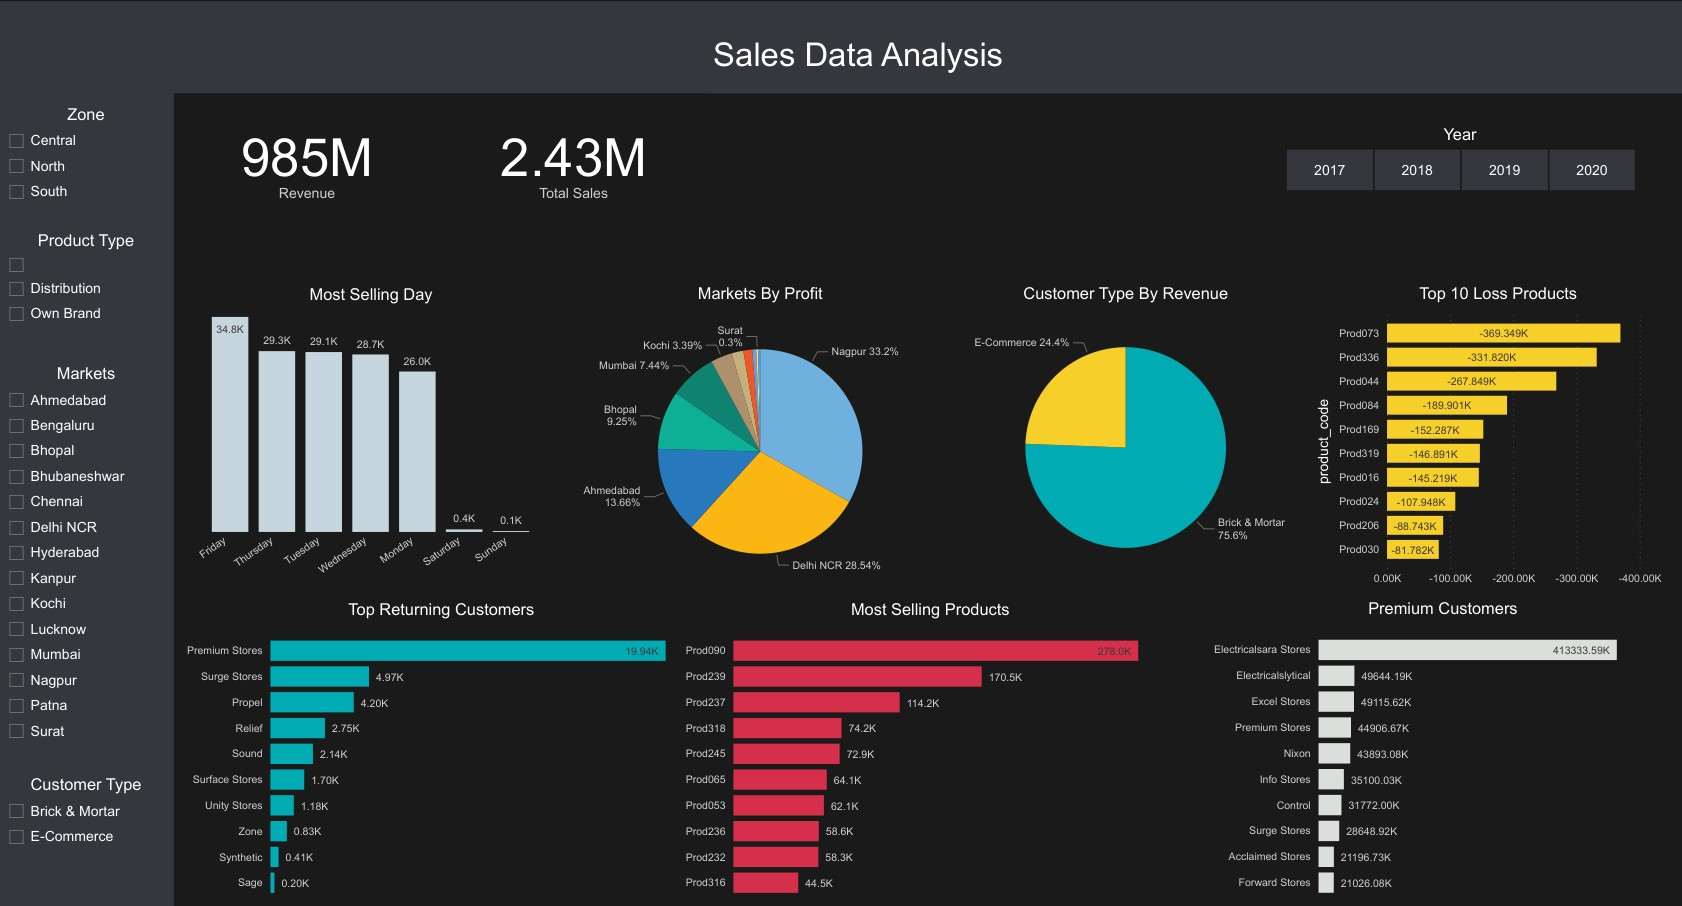

The dashboard page shown, as its layout file describes it:
{"tool":"powerbi","page":{"name":"Page 1","canvas":[1920,1080],"ordinal":0},"visuals":[{"type":"columnChart","title":"Most Selling Day","fields":{"Category":["marged_sales_data.Day of week"],"Y":["CountNonNull(marged_sales_data.Day of week)"]},"box":[199.9,729.5,573.4,350.2],"z":0},{"type":"clusteredBarChart","title":"Premium Customers","fields":{"Category":["marged_sales_data.custmer_name"],"Y":["Sum(marged_sales_data.sales_amount)"]},"box":[1368.5,729.5,551,350.2],"z":1000},{"type":"clusteredBarChart","title":"Returning Customers","fields":{"Category":["marged_sales_data.custmer_name"],"Y":["CountNonNull(marged_sales_data.custmer_name)"]},"box":[199.9,370.6,605.5,350.2],"z":2000},{"type":"pieChart","title":"Markets By Profits","fields":{"Category":["marged_sales_data.markets_name"],"Y":["Sum(marged_sales_data.profit_margin_percentage)"]},"box":[805.3,370.6,426,350.2],"z":3000},{"type":"clusteredBarChart","title":"Top 10 Loss Products","fields":{"Category":["marged_sales_data.product_code"],"Y":["Sum(marged_sales_data.profit_margin)"]},"box":[1231.4,353.1,344.3,367.7],"z":4000},{"type":"clusteredBarChart","title":"Top 10 Loss Products","fields":{"Category":["marged_sales_data.product_code"],"Y":["Sum(marged_sales_data.profit_margin)"]},"box":[1575.7,353.1,344.3,366.2],"z":5000},{"type":"shape","box":[0,48.1,1920,105],"z":6000},{"type":"clusteredBarChart","title":"Most Selling Products","fields":{"Category":["marged_sales_data.product_code"],"Y":["Sum(marged_sales_data.sales_qty)"]},"box":[773.3,729.5,573.4,350.2],"z":7000},{"type":"textbox","box":[726.6,83.2,504.8,70],"z":8000},{"type":"card","fields":{"Values":["Sum(marged_sales_data.sales_amount)"]},"box":[199.9,153.2,303.5,153.2],"z":9000},{"type":"card","fields":{"Values":["Sum(marged_sales_data.sales_qty)"]},"box":[503.3,153.2,303.5,153.2],"z":10000},{"type":"actionButton","box":[0,0,100,40],"z":11000},{"type":"shape","box":[0,118.6,200,961.4],"z":12000},{"type":"slicer","title":"Zone","fields":{"Values":["marged_sales_data.zone"]},"box":[0,165.7,200,127.1],"z":13000},{"type":"slicer","title":"Product Type","fields":{"Values":["marged_sales_data.product_type"]},"box":[0,310,200,120],"z":13001},{"type":"slicer","title":"Markets","fields":{"Values":["marged_sales_data.markets_name"]},"box":[0,461.4,200,442.9],"z":13002},{"type":"slicer","title":"Customer Type","fields":{"Values":["marged_sales_data.customer_type"]},"box":[0,928.6,200,102.9],"z":13003},{"type":"slicer","title":"Year","fields":{"Values":["marged_sales_data.order_date.Variation.Date Hierarchy.Year"]},"box":[1441.4,188.6,445.7,81.4],"z":13004}]}

Visuals, with their boxes on the page's 1920x1080 design canvas (x1, y1, x2, y2). These are canvas units, not pixel positions in the 1682x906 screenshot, which may show the page scaled, cropped or inside an application window:
"Most Selling Day" columnChart: <box>200,730,773,1080</box>
"Premium Customers" clusteredBarChart: <box>1368,730,1920,1080</box>
"Returning Customers" clusteredBarChart: <box>200,371,805,721</box>
"Markets By Profits" pieChart: <box>805,371,1231,721</box>
"Top 10 Loss Products" clusteredBarChart: <box>1231,353,1576,721</box>
"Top 10 Loss Products" clusteredBarChart: <box>1576,353,1920,719</box>
shape: <box>0,48,1920,153</box>
"Most Selling Products" clusteredBarChart: <box>773,730,1347,1080</box>
textbox: <box>727,83,1231,153</box>
card - Sum(marged_sales_data.sales_amount): <box>200,153,503,306</box>
card - Sum(marged_sales_data.sales_qty): <box>503,153,807,306</box>
actionButton: <box>0,0,100,40</box>
shape: <box>0,119,200,1080</box>
"Zone" slicer: <box>0,166,200,293</box>
"Product Type" slicer: <box>0,310,200,430</box>
"Markets" slicer: <box>0,461,200,904</box>
"Customer Type" slicer: <box>0,929,200,1032</box>
"Year" slicer: <box>1441,189,1887,270</box>
